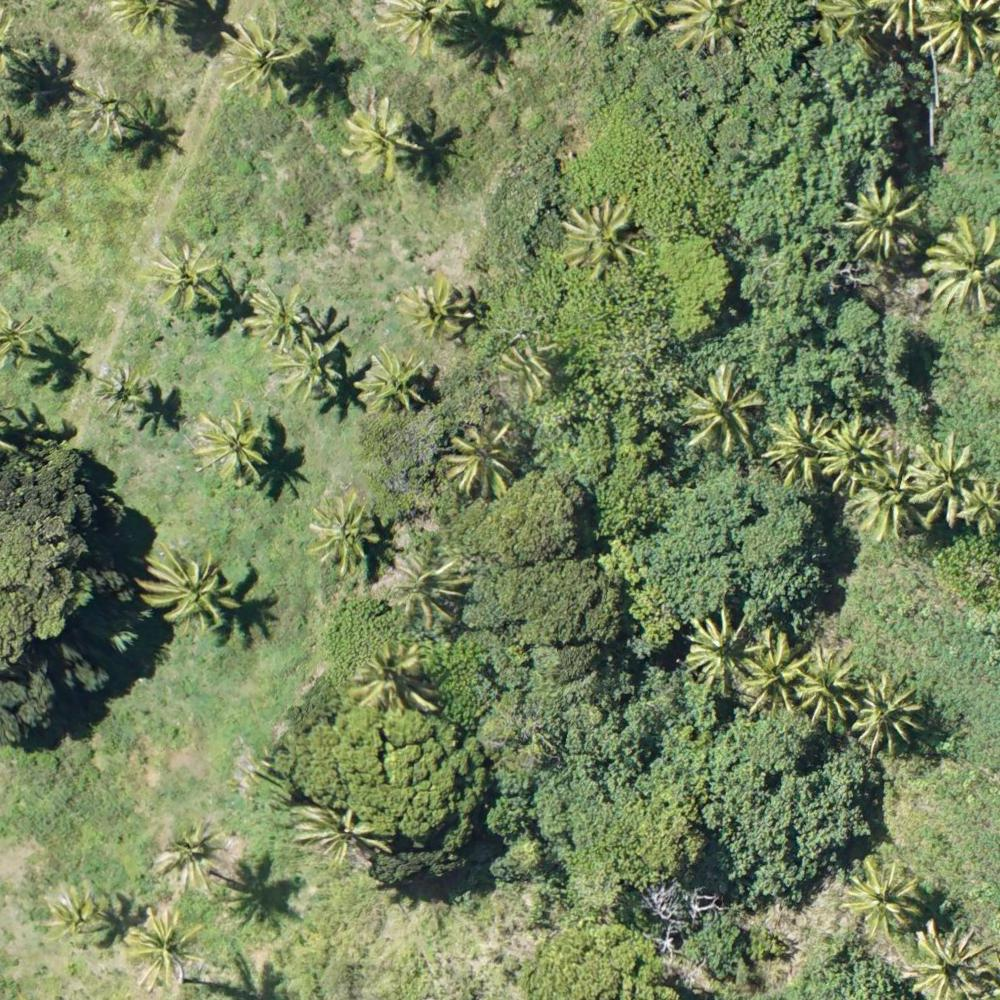Palm: (141, 541, 239, 627), (217, 15, 308, 104), (924, 215, 1000, 317), (685, 365, 766, 457), (299, 802, 390, 877), (908, 925, 997, 999), (563, 199, 647, 275), (189, 406, 274, 481), (353, 642, 442, 713), (843, 858, 925, 932), (907, 438, 979, 522), (796, 641, 867, 726), (842, 182, 921, 257), (686, 612, 756, 696), (346, 99, 422, 176), (126, 905, 199, 985), (388, 554, 467, 627), (770, 405, 840, 483), (856, 678, 929, 749), (446, 425, 518, 496), (400, 277, 476, 344), (308, 498, 379, 568), (150, 241, 218, 314), (740, 633, 805, 709), (271, 344, 342, 407), (159, 818, 221, 889), (363, 345, 429, 411), (250, 283, 315, 347), (69, 80, 133, 138), (40, 880, 100, 939), (829, 422, 890, 479), (98, 365, 150, 415), (957, 479, 1000, 530)
